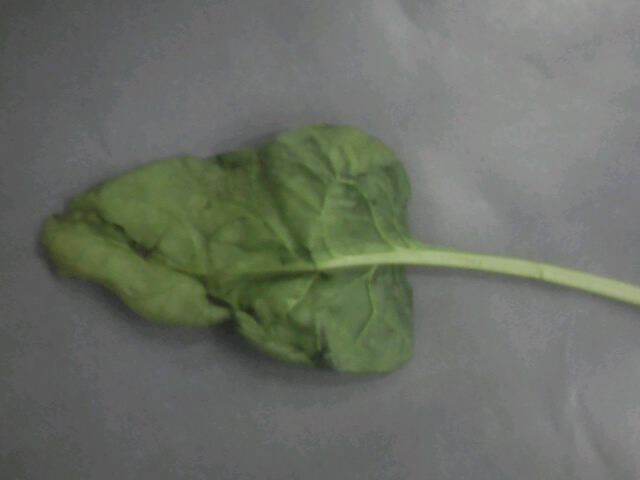yellow: (20, 114, 574, 383)
